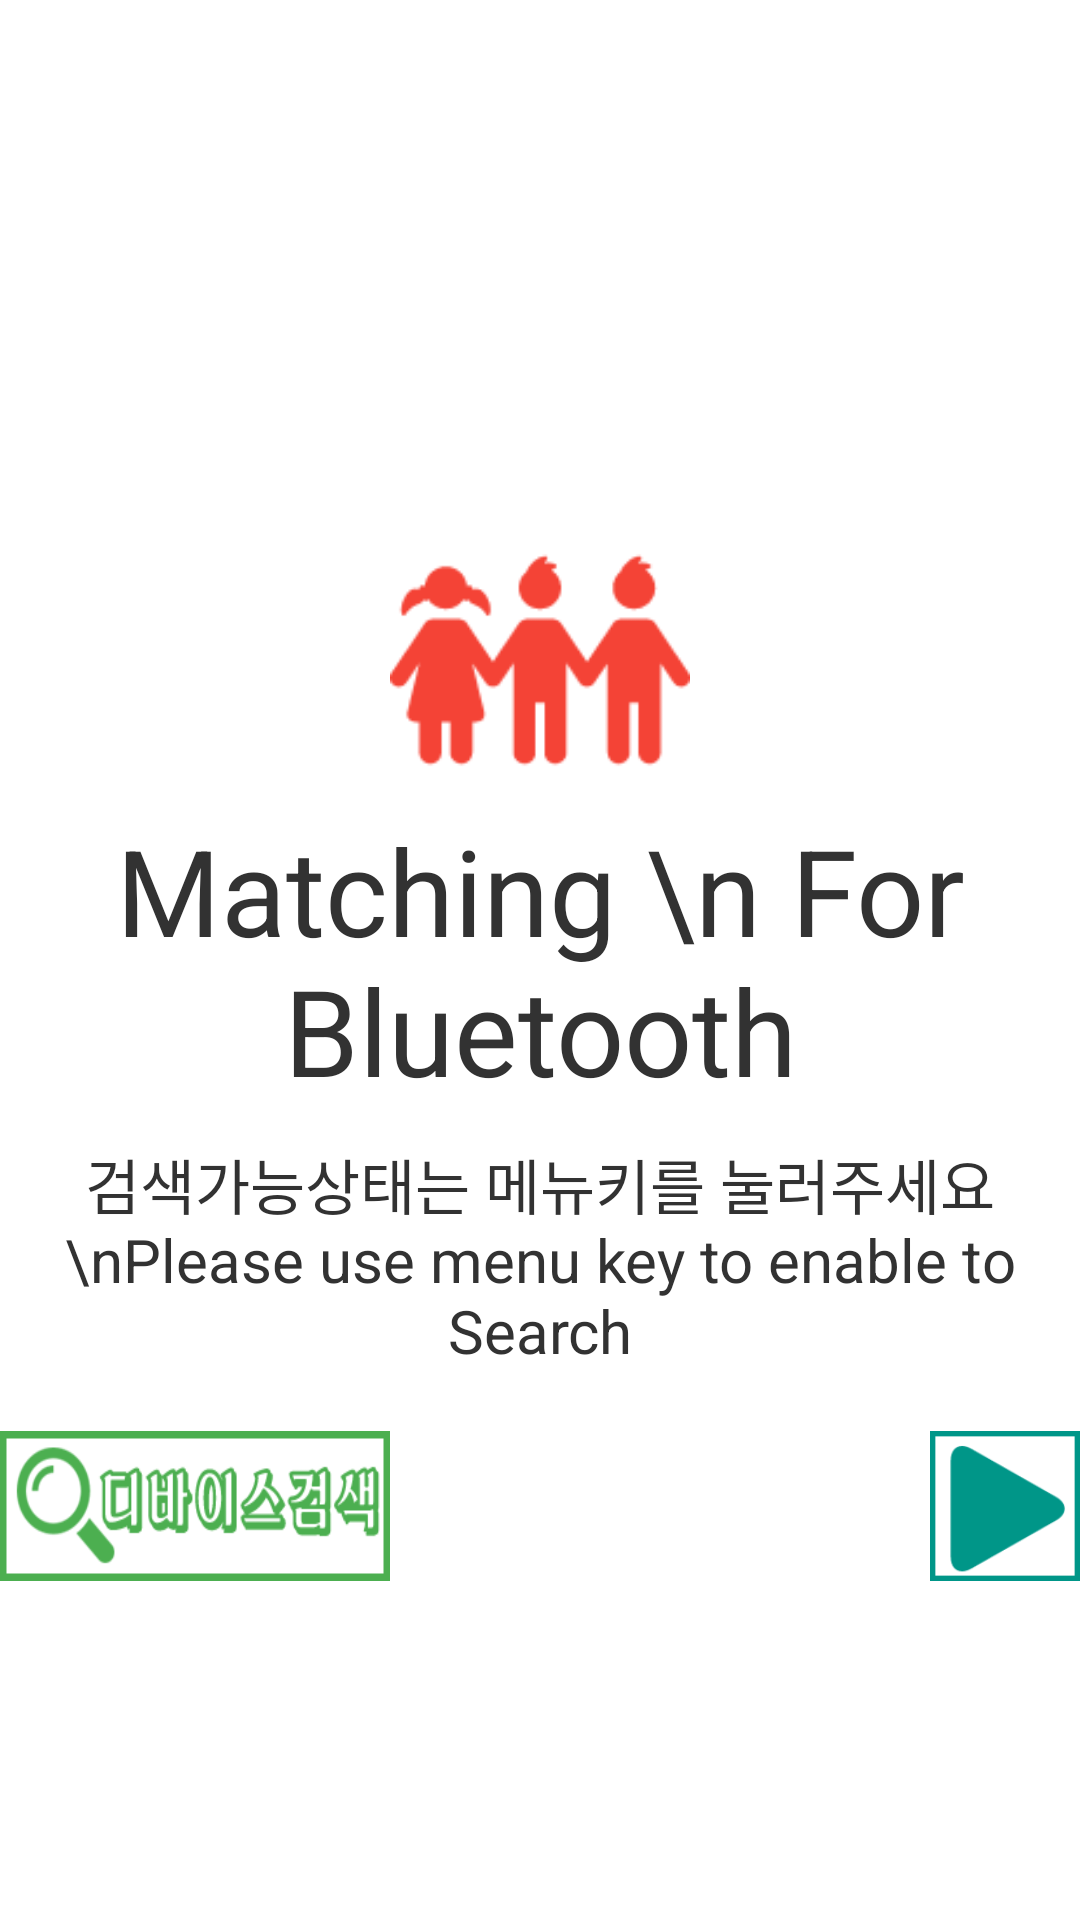

Icon bounding boxes for this 1080w x 1920h phone screenshot, format bbox=(x1, y1, x2, y2):
playgame: bbox=(930, 1431, 1080, 1581)
